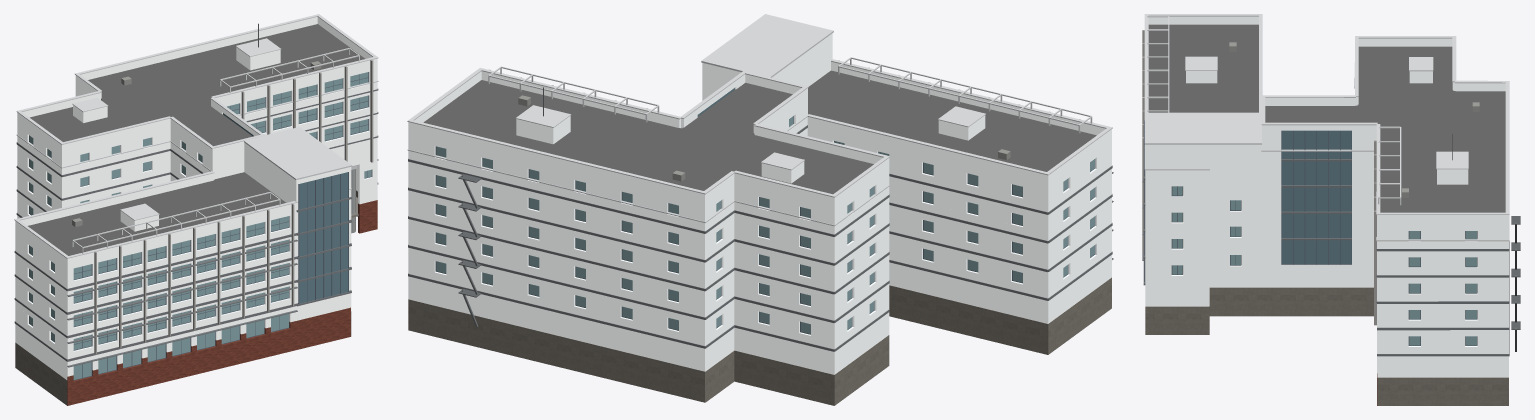
3 views of the same model, side by side, from view 1: azimuth 30°, elevation 25°; view 2: azimuth 150°, elevation 25°; view 3: azimuth 270°, elevation 25° (orthographic). The views are drawn at different scales.
Visible parts, largest first — view 1: w451562710__panel-wall, w451562710__roof, w451562710__glass, w451562710__trim, w451562710__band-gray, w451562710__brick-wall, w451562710__curtain-glass, w451562710__frame, w451562710__column-concrete-wall, w451562710__steel-white, w451562710__plinth-wall; view 2: w451562710__panel-wall, w451562710__roof, w451562710__plinth-wall, w451562710__trim, w451562710__band-gray, w451562710__glass, w451562710__steel-white, w451562710__frame, w451562710__rail; view 3: w451562710__panel-wall, w451562710__roof, w451562710__plinth-wall, w451562710__trim, w451562710__curtain-glass, w451562710__band-gray, w451562710__glass, w451562710__frame, w451562710__steel-white, w451562710__column-concrete-wall, w451562710__rail.
Boxes of the visible parts, x1=… form: w451562710__panel-wall: x1=15, y1=17, x2=377, y2=379; w451562710__roof: x1=28, y1=24, x2=364, y2=255; w451562710__glass: x1=29, y1=72, x2=371, y2=379; w451562710__trim: x1=14, y1=14, x2=378, y2=258; w451562710__band-gray: x1=14, y1=88, x2=378, y2=367; w451562710__brick-wall: x1=67, y1=200, x2=377, y2=405; w451562710__curtain-glass: x1=223, y1=113, x2=348, y2=303; w451562710__frame: x1=29, y1=72, x2=371, y2=380; w451562710__column-concrete-wall: x1=94, y1=60, x2=373, y2=354; w451562710__steel-white: x1=72, y1=48, x2=359, y2=253; w451562710__plinth-wall: x1=15, y1=190, x2=357, y2=405; w451562710__panel-wall: x1=408, y1=33, x2=1111, y2=374; w451562710__roof: x1=423, y1=70, x2=1096, y2=194; w451562710__plinth-wall: x1=408, y1=277, x2=1111, y2=405; w451562710__trim: x1=407, y1=14, x2=1112, y2=226; w451562710__band-gray: x1=408, y1=125, x2=1113, y2=351; w451562710__glass: x1=436, y1=116, x2=1094, y2=334; w451562710__steel-white: x1=488, y1=57, x2=1092, y2=133; w451562710__frame: x1=435, y1=116, x2=1095, y2=334; w451562710__rail: x1=458, y1=87, x2=543, y2=327; w451562710__panel-wall: x1=1145, y1=16, x2=1508, y2=377; w451562710__roof: x1=1148, y1=24, x2=1505, y2=238; w451562710__plinth-wall: x1=1145, y1=287, x2=1508, y2=405; w451562710__trim: x1=1144, y1=14, x2=1509, y2=241; w451562710__curtain-glass: x1=1281, y1=130, x2=1351, y2=264; w451562710__band-gray: x1=1142, y1=79, x2=1509, y2=356; w451562710__glass: x1=1172, y1=186, x2=1476, y2=345; w451562710__frame: x1=1144, y1=120, x2=1477, y2=345; w451562710__steel-white: x1=1146, y1=16, x2=1401, y2=205; w451562710__column-concrete-wall: x1=1142, y1=30, x2=1376, y2=325; w451562710__rail: x1=1452, y1=133, x2=1520, y2=351.
Size of the model in its own units: 68.32 by 31.7 by 48.25.
21 materials, 2 textured.
